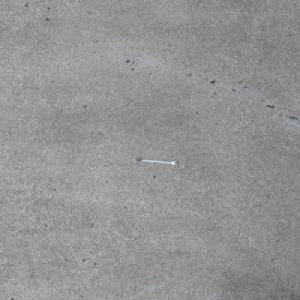Wrench: (134, 157, 178, 165)
